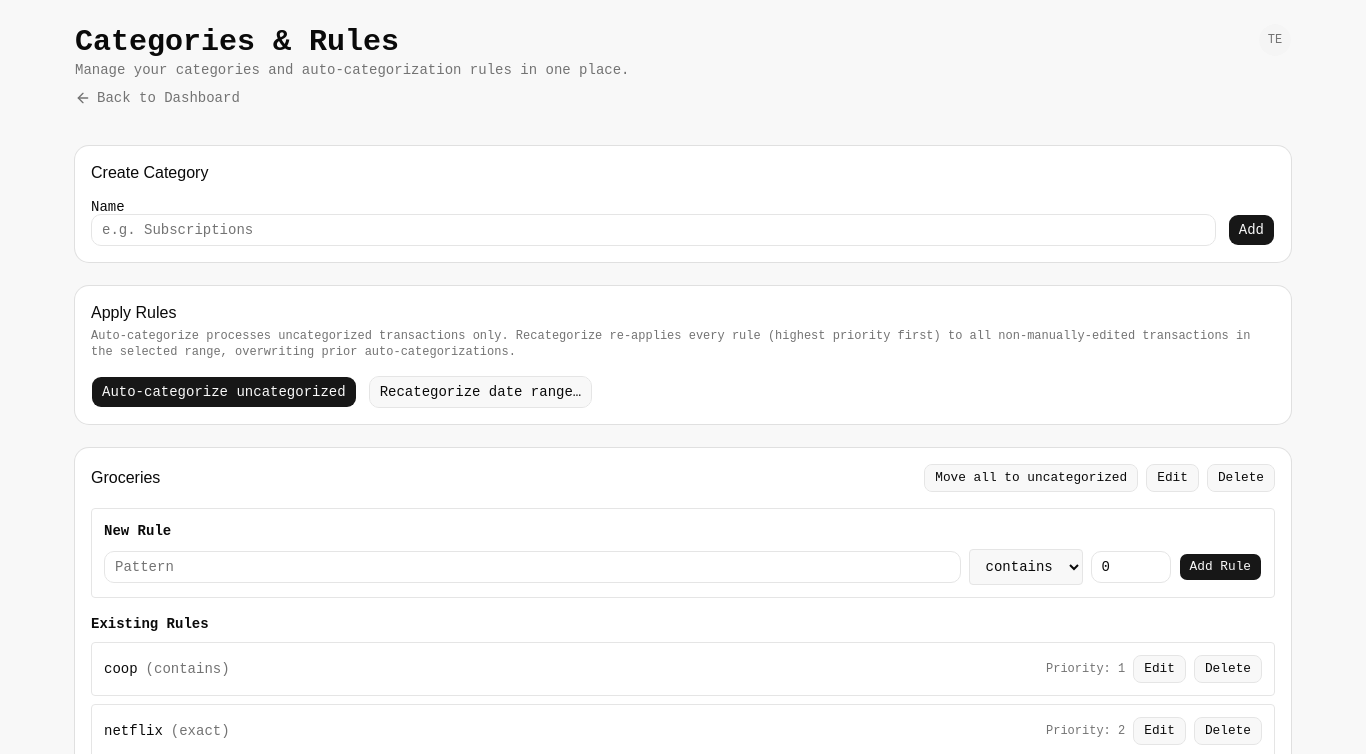
CategoriesPage › renders the overlap warning when /category-rules/overlap reports conflicts
Expected: the heading "Groceries" is shown, [91,466,160,490]
Type "coop" into the field named "New rule pattern for Groceries" at [532, 567], box [104,551,961,583]
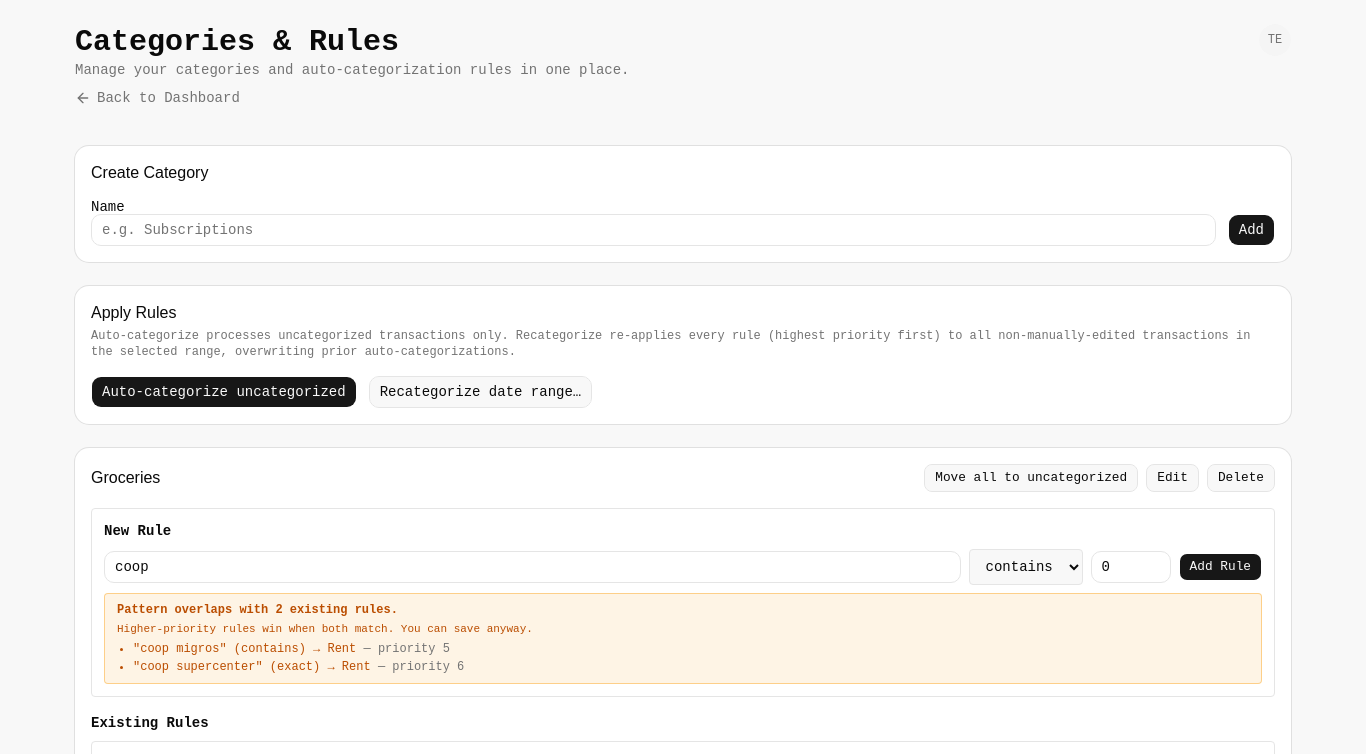
Result: the text "Pattern overlaps with 2 existing rules." is shown at [117,603,398,617]
